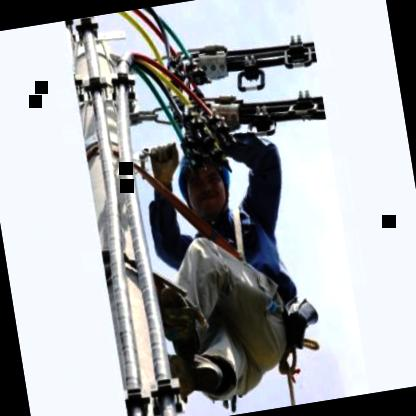helmet: (169, 134, 240, 224)
